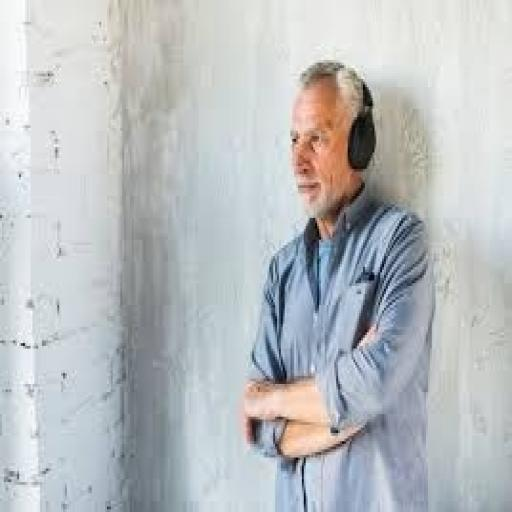listening_to_music: (240, 57, 438, 509)
